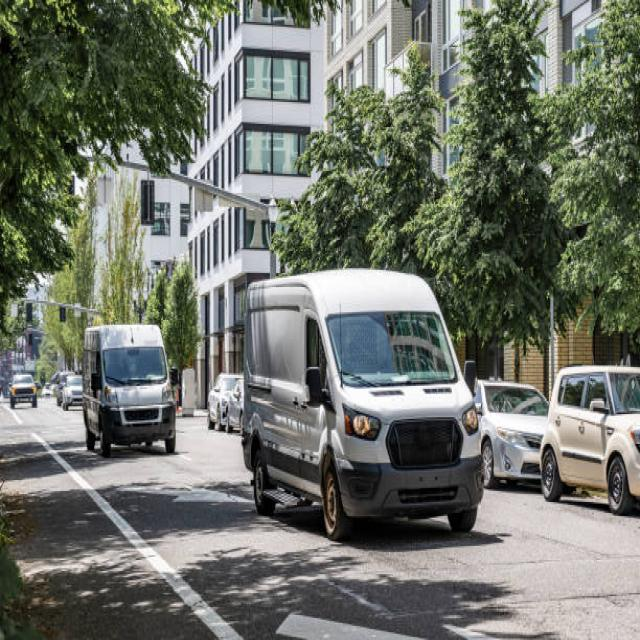Car: (539, 364, 639, 514), (474, 376, 550, 488)
MiniBus: (240, 265, 486, 541), (81, 322, 178, 456)
Traffic-light: (25, 301, 33, 322), (58, 304, 66, 322)
